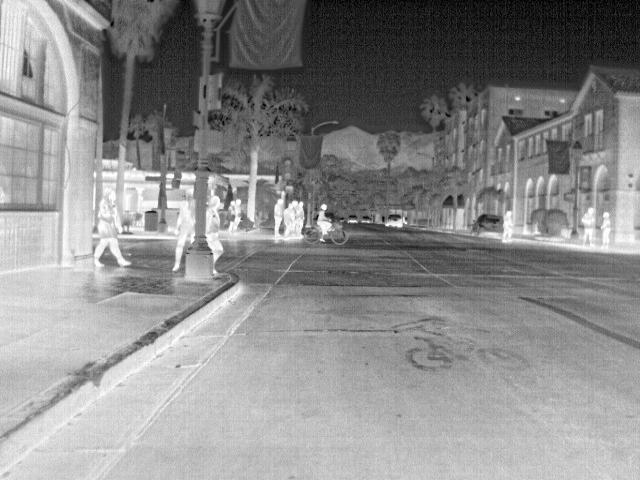car: (469, 212, 503, 238), (384, 211, 406, 227), (345, 212, 357, 225)
person: (94, 188, 133, 268), (170, 200, 196, 271), (204, 195, 225, 274), (315, 204, 334, 241), (269, 194, 285, 235), (582, 205, 598, 243), (500, 209, 517, 243), (229, 198, 245, 232), (599, 208, 612, 248), (281, 202, 295, 236)
